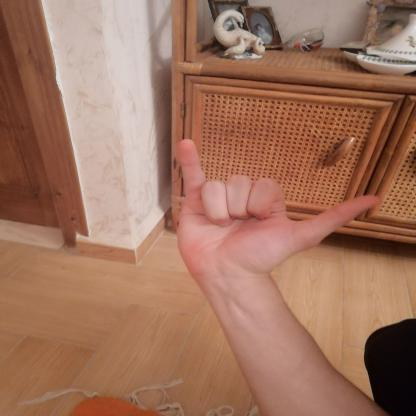YA: (150, 124, 394, 292)
